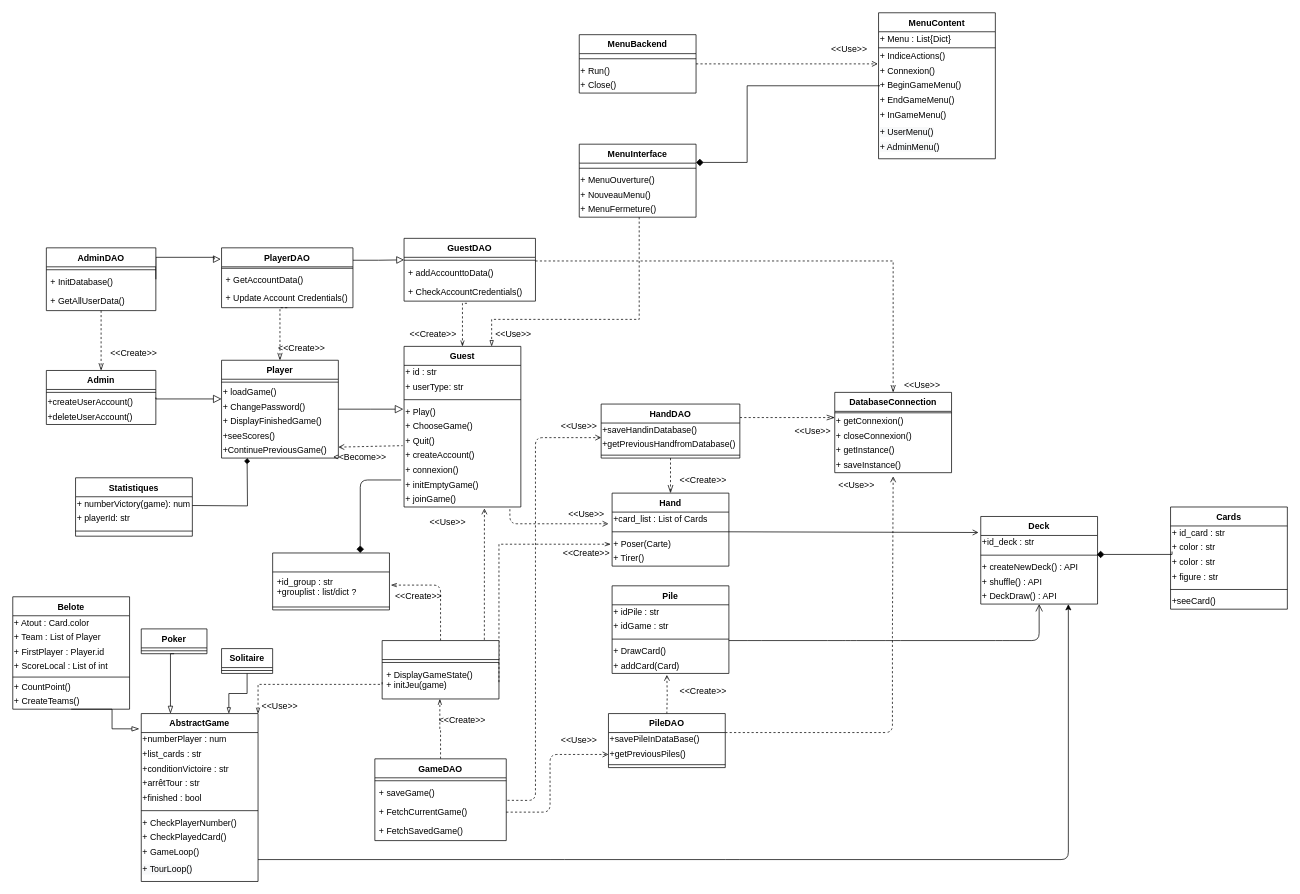
The diagram is 1300 pixels wide and 894 high, and some of its shapes have lost their labels. Each missing label, with the box of its shape:
GameService: (381, 640, 499, 699)
PlayerGroup: (272, 552, 389, 610)
